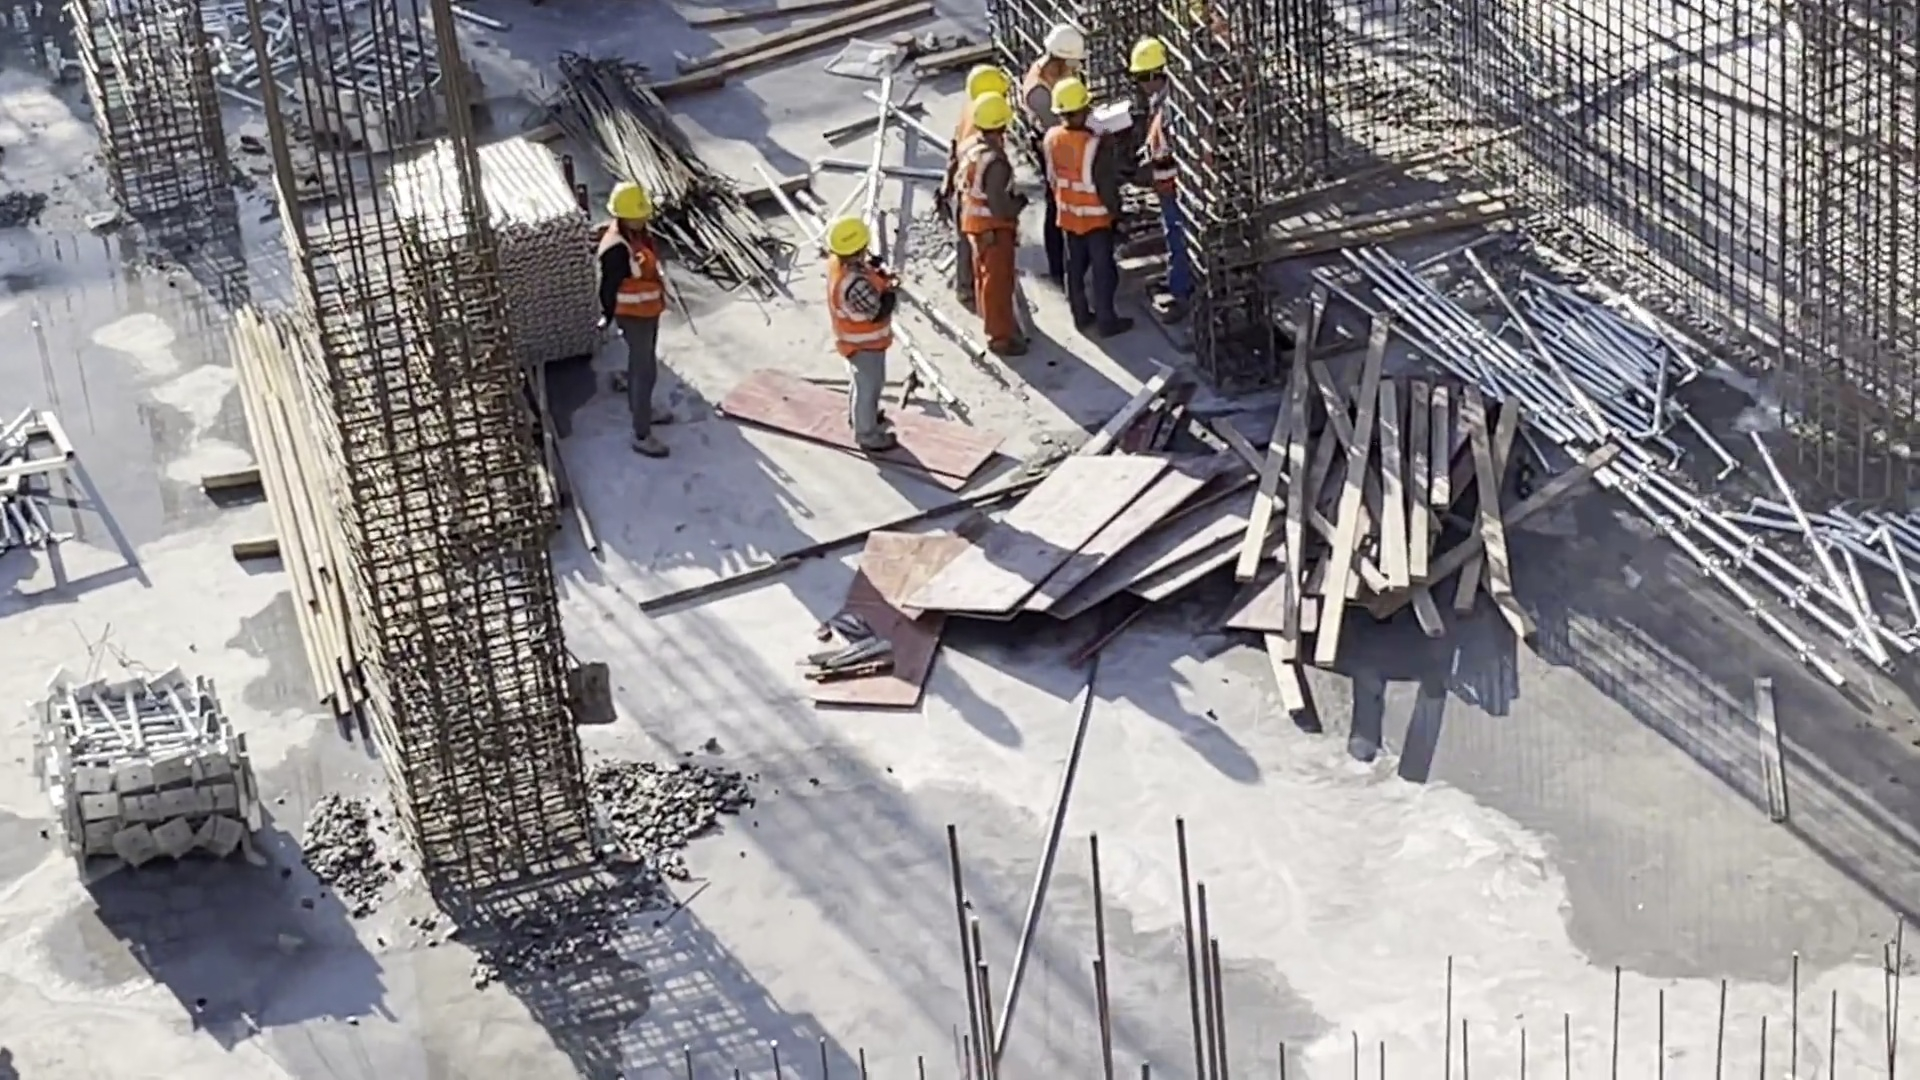helmet: (832, 221, 877, 261), (607, 187, 653, 222), (1042, 29, 1084, 64), (1049, 76, 1089, 107), (1125, 37, 1163, 69), (966, 68, 1011, 92), (982, 98, 1007, 130)
person: (1046, 78, 1138, 345), (817, 215, 918, 460), (588, 183, 670, 469), (962, 92, 1037, 361), (950, 62, 1015, 308), (1028, 23, 1088, 287), (1126, 37, 1180, 327)
vest: (598, 238, 663, 323), (828, 273, 892, 358), (1050, 142, 1109, 226), (1144, 111, 1178, 192), (962, 161, 998, 234)
